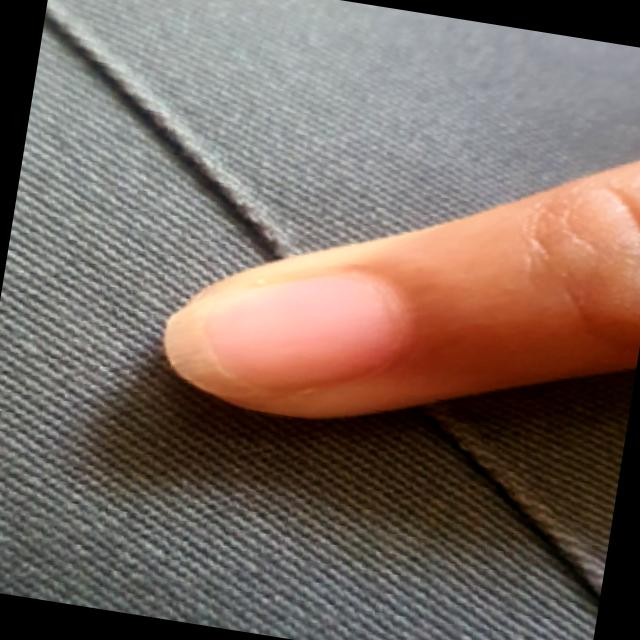Nail: (161, 267, 401, 400)
